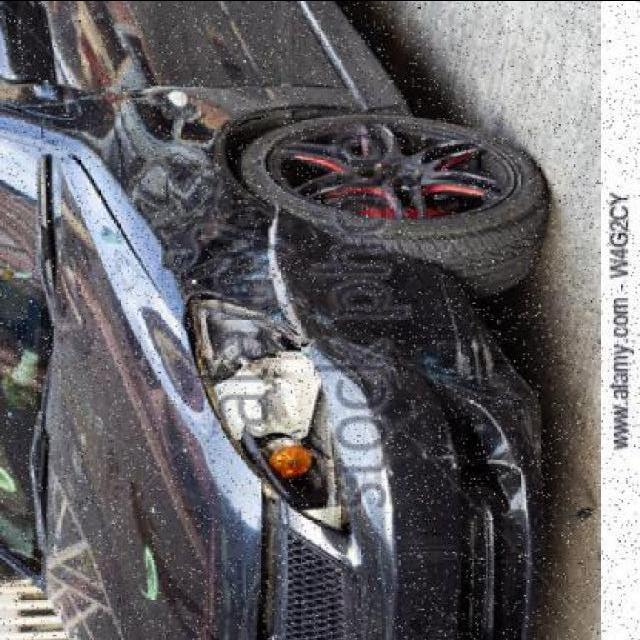Headlight-Damage: (182, 292, 320, 449)
fender-dent: (120, 86, 312, 294)
front-bumper-dent: (345, 273, 549, 640)
